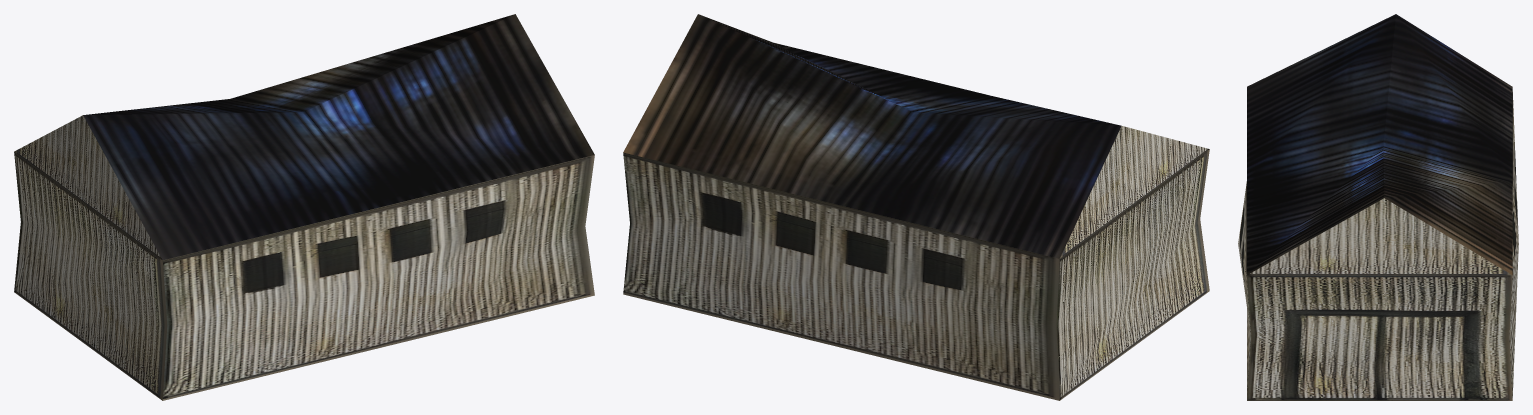
The model's file is bighangerburn1.gltf.
The picture shows the model from 3 angles, left to right: view 1: azimuth 30°, elevation 25°; view 2: azimuth 150°, elevation 25°; view 3: azimuth 270°, elevation 25°; orthographic projection. The views are drawn at different scales.
Parts seen in each view (by area): view 1: bighangerburn1_atomic0; view 2: bighangerburn1_atomic0; view 3: bighangerburn1_atomic0.
Part boxes in pixels (bbox=[...]): bighangerburn1_atomic0: bbox=[14, 14, 594, 400]; bighangerburn1_atomic0: bbox=[623, 14, 1209, 400]; bighangerburn1_atomic0: bbox=[1238, 14, 1518, 400].
Size of the model in its own units: 81.24 by 40.55 by 51.12.
Materials: 2 (2 with a texture image).
